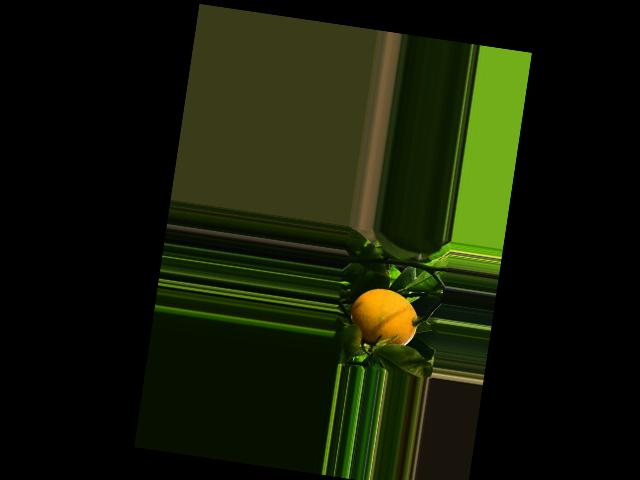lemon: (343, 279, 425, 357)
